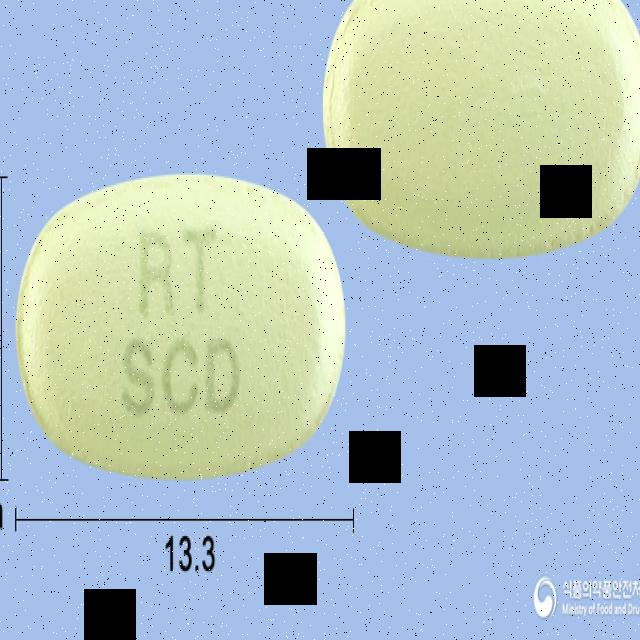Retos Tab: (15, 171, 346, 474)
